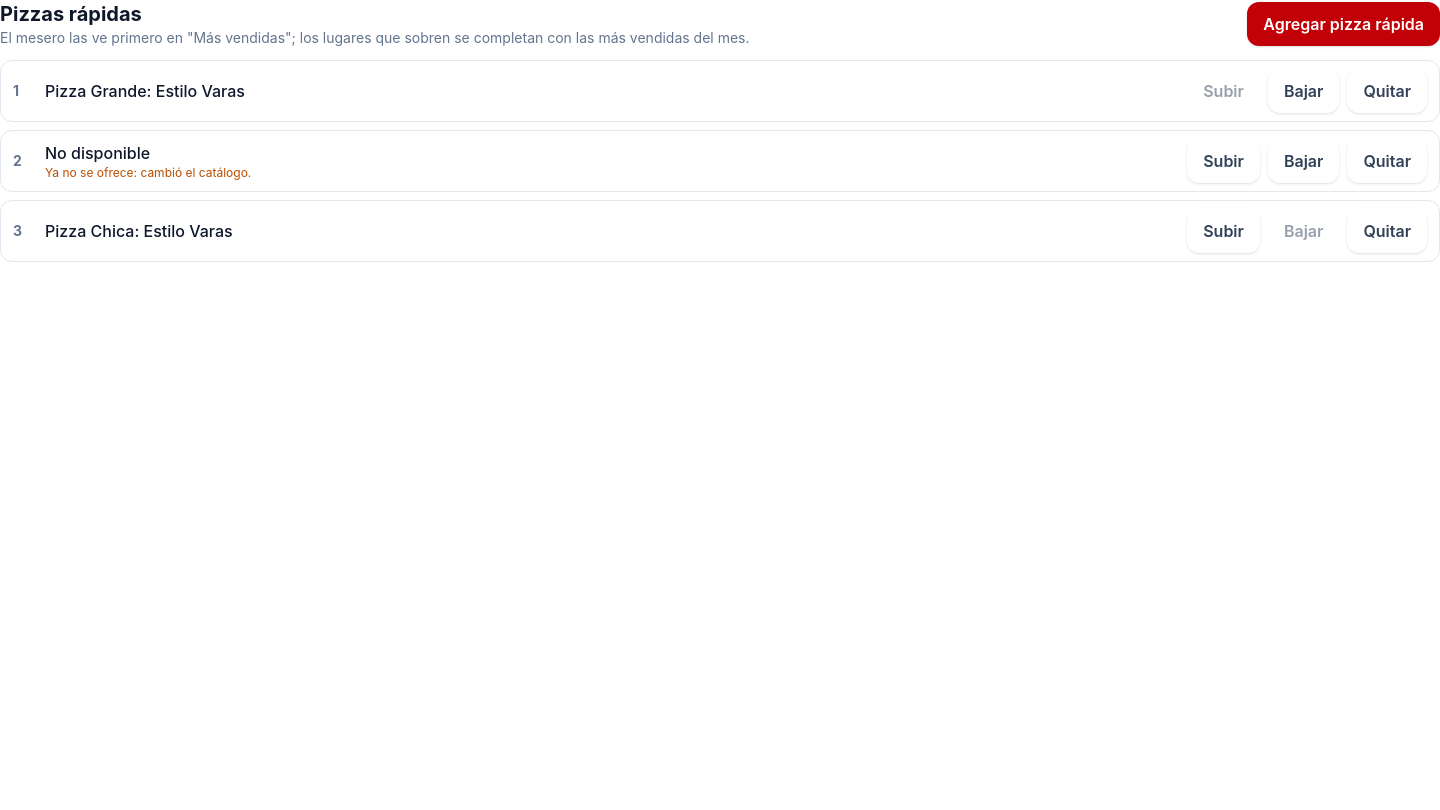
QuickPizzasSection › fixes a pizza built with the builder, without quantity or note, even with no dough today
What coordinates should you click on to do the following:
click the button "Agregar pizza rápida"
I would click on:
 (1344, 24)
Its box is [1247,2,1439,46].
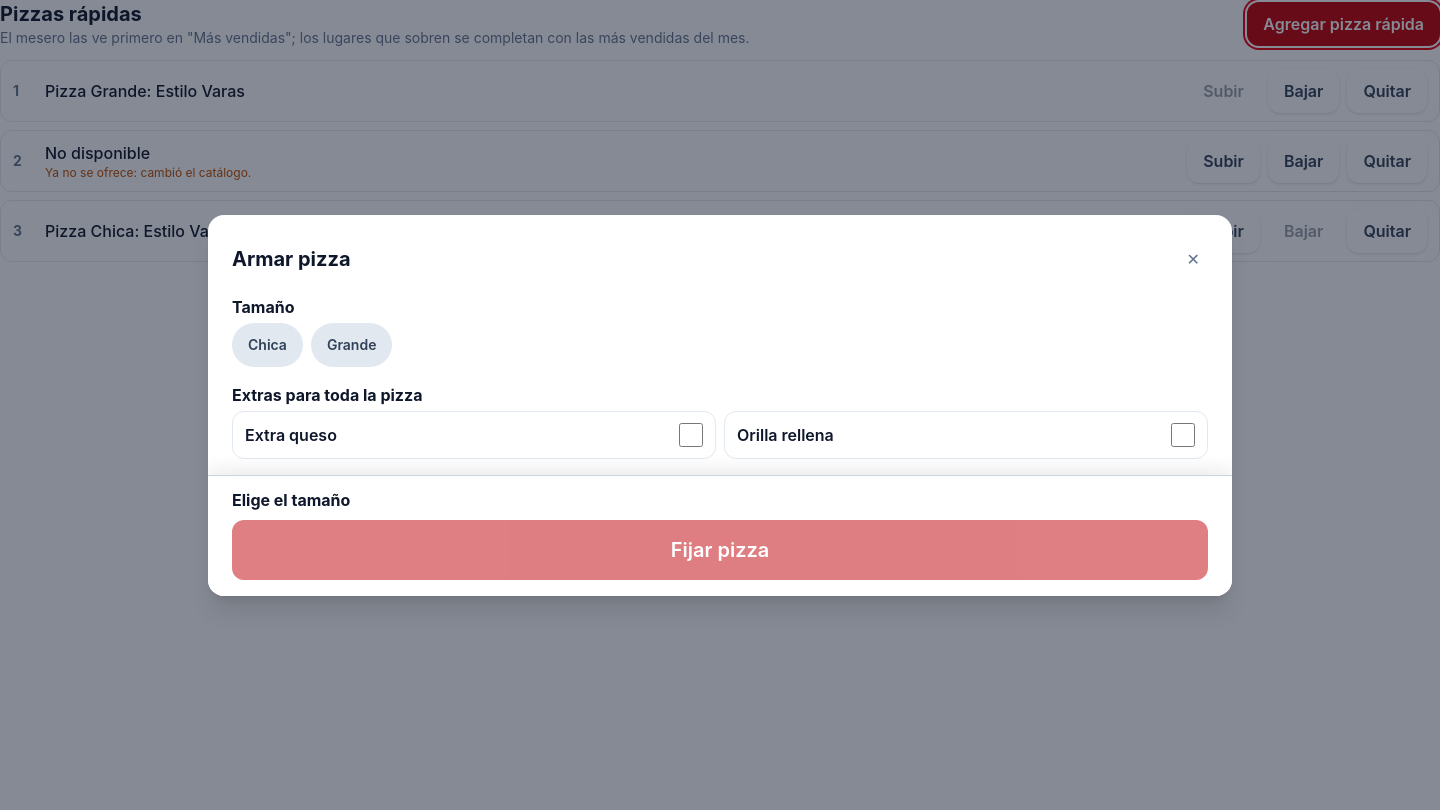
Note: Size → (short pause) style (no ingredients to choose): "Fijar pizza" is ready without any "Siguiente".
What coordinates should you click on to do the following:
click the button "Chica"
I would click on:
 (267, 344)
Its box is [232,322,303,366].
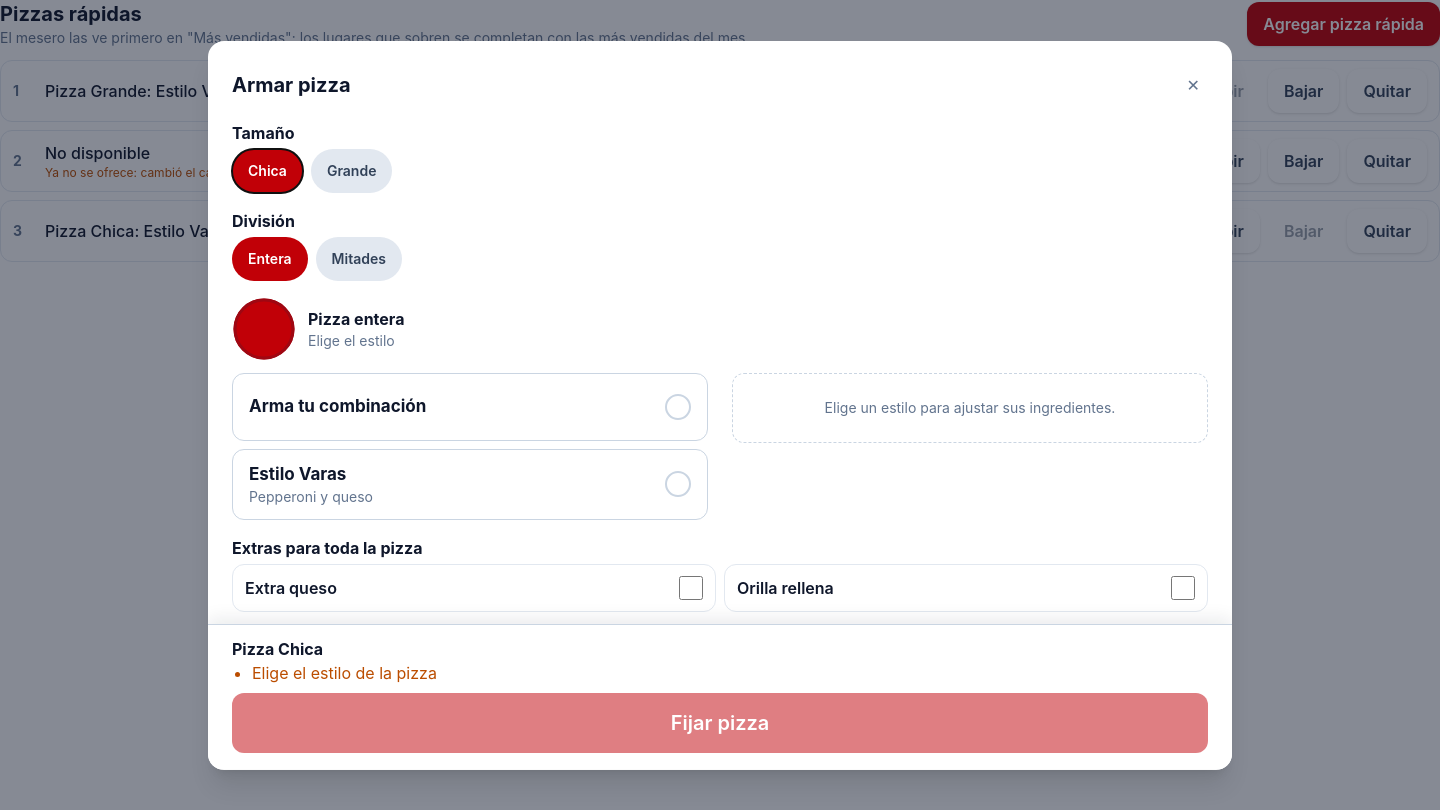
What coordinates should you click on to do the following:
click the button "Estilo Varas Pepperoni y queso ✓"
I would click on:
 (298, 474)
Its box is [232,448,708,520].
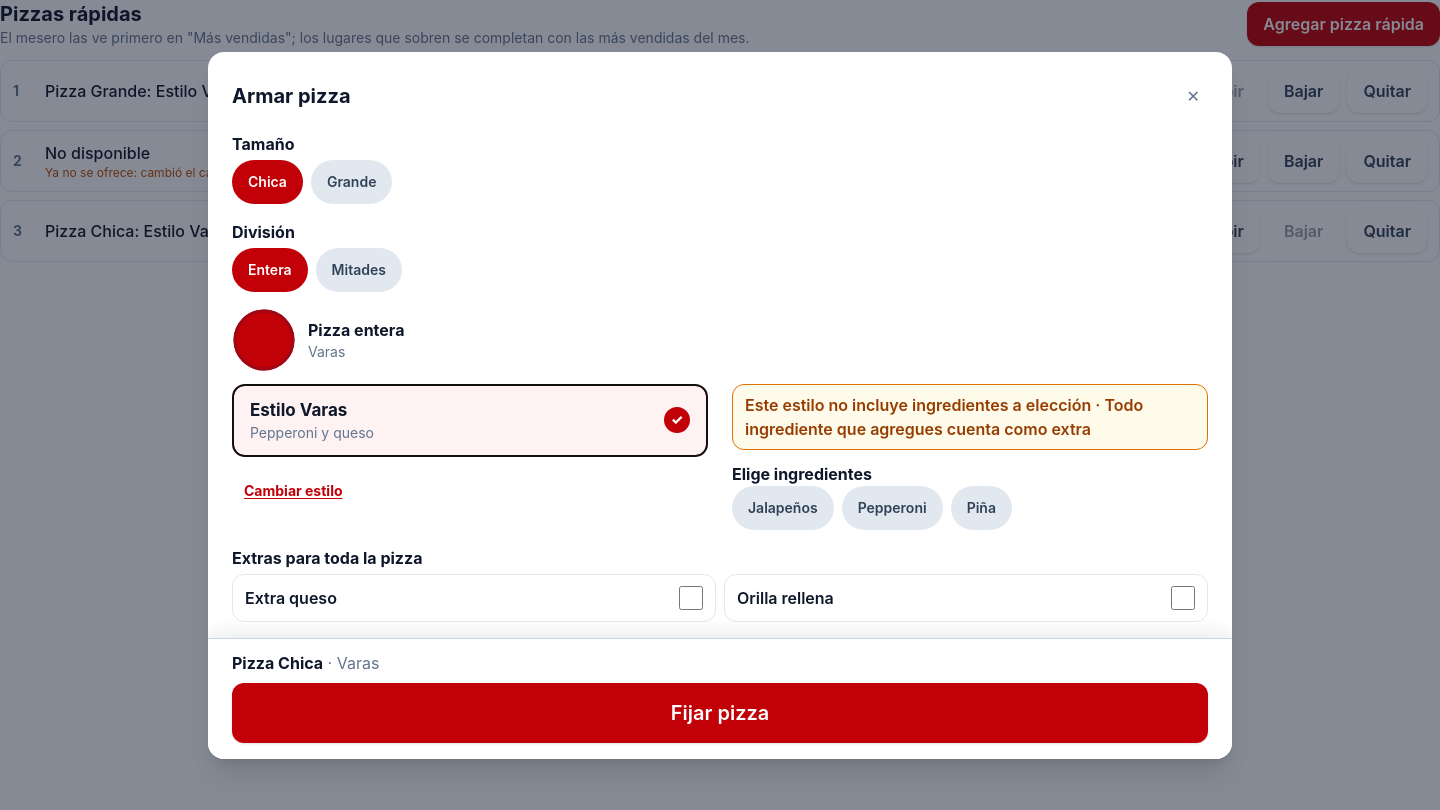
What coordinates should you click on to do the following:
click the button "Fijar pizza"
I would click on:
 (720, 712)
Its box is [232,682,1208,742].
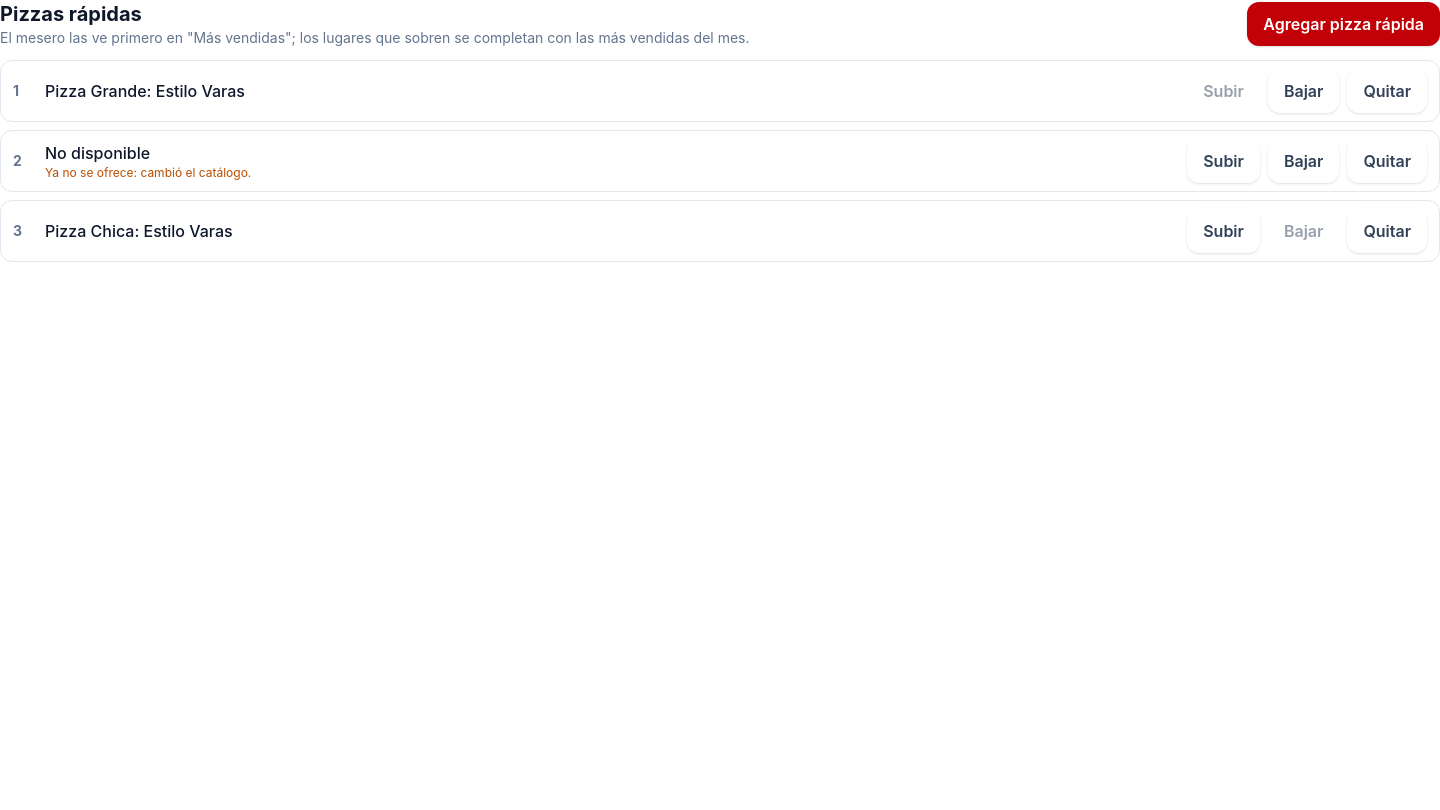
Now the heading "Armar pizza" is gone
